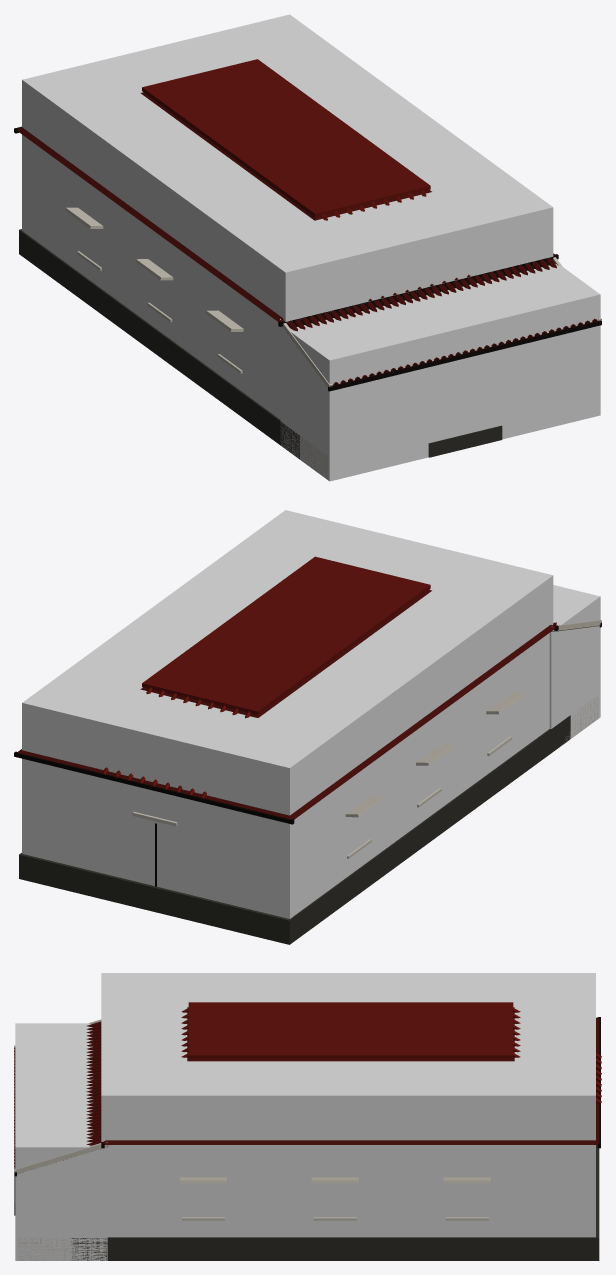
Rendered from CHN_001_agraharam.glb.
The picture shows the model from 3 angles, top to bottom: view 1: azimuth 30°, elevation 25°; view 2: azimuth 150°, elevation 25°; view 3: azimuth 270°, elevation 25°; orthographic projection. The views are drawn at different scales.
Visible parts, largest first — view 1: COL_Main, COL_Verandah, LOD0; view 2: COL_Main, LOD0, COL_Verandah; view 3: COL_Main, LOD0, COL_Verandah.
Boxes of the visible parts, box(x1,y1,x2,y2) form: COL_Main: box(22, 14, 553, 419); COL_Verandah: box(280, 264, 600, 481); LOD0: box(14, 59, 601, 479); COL_Main: box(22, 510, 553, 918); LOD0: box(14, 556, 601, 944); COL_Verandah: box(549, 585, 600, 742); COL_Main: box(101, 973, 595, 1237); LOD0: box(14, 1002, 601, 1260); COL_Verandah: box(15, 1023, 107, 1260).
Size of what is drawn, in the model's own units: 9.65 by 5.69 by 17.83.
